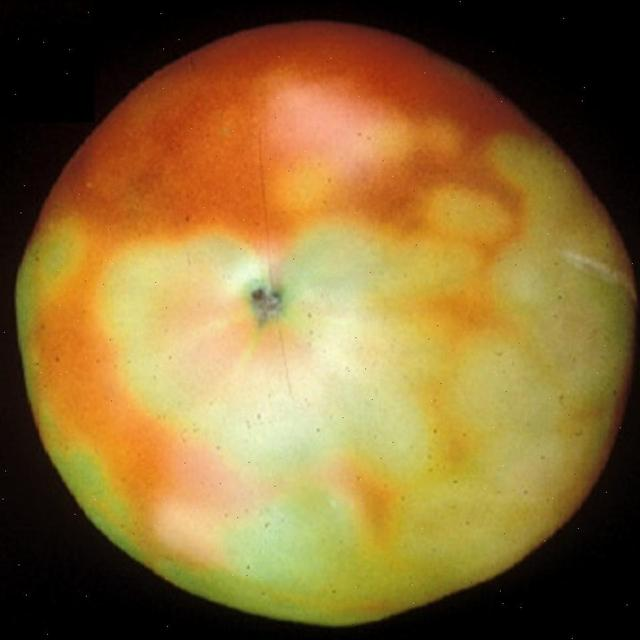Spotted wilt Virus Fruit: (21, 48, 35, 217)
